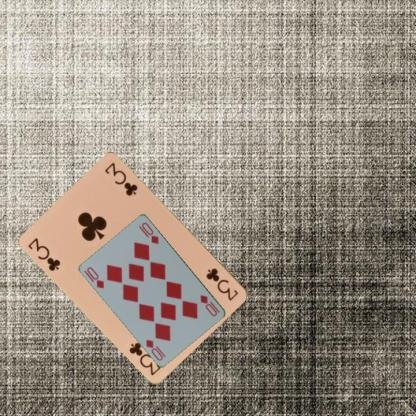10d: (198, 292, 221, 318), (84, 265, 106, 290)
3c: (203, 265, 240, 302), (25, 235, 62, 272)
